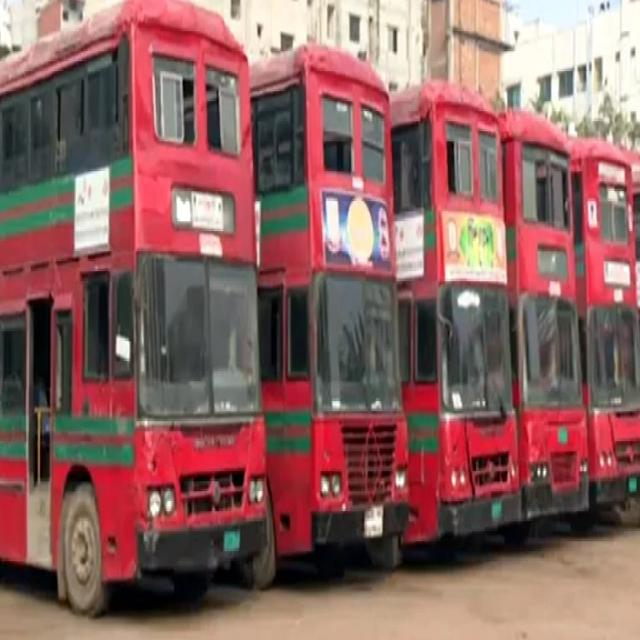Double decker: (29, 13, 422, 566), (1, 1, 271, 627), (221, 62, 530, 562), (305, 110, 640, 522), (302, 97, 581, 542)
